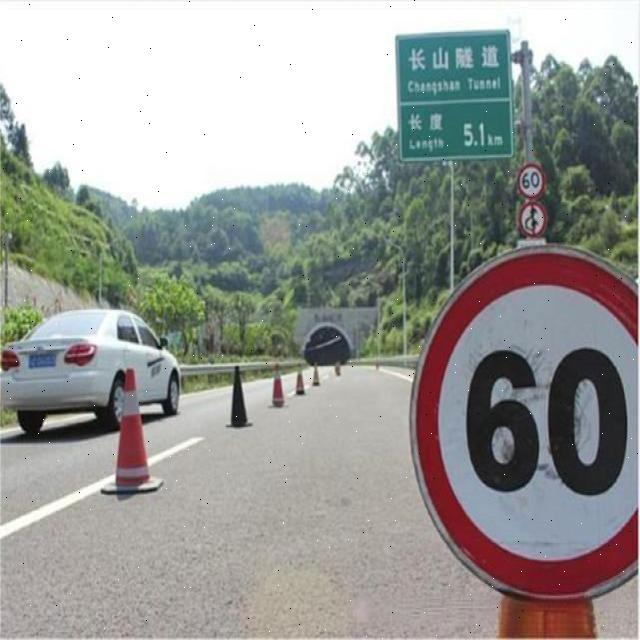speed limit 60: (406, 245, 640, 601), (518, 162, 545, 201)
